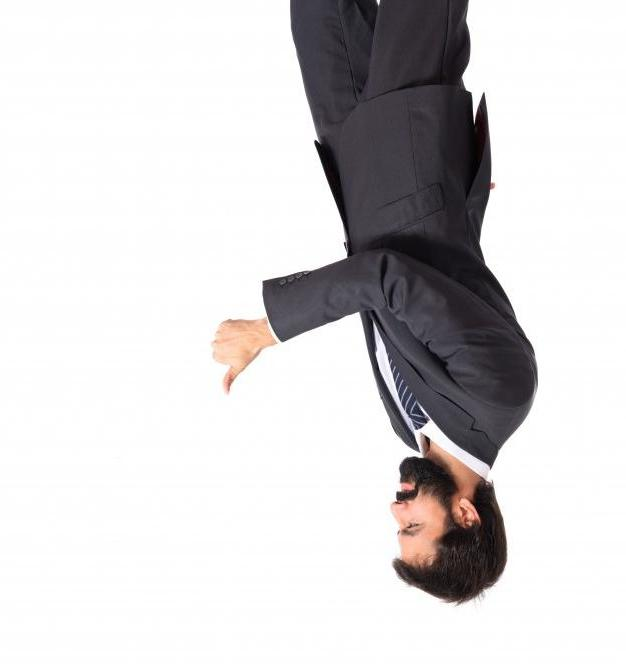thumbsdown: (211, 319, 246, 396)
